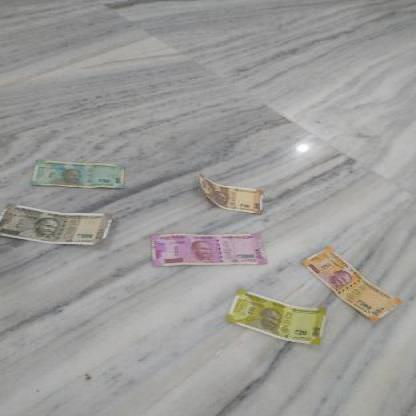New10Front: (200, 179, 267, 214)
New2000Front: (147, 232, 269, 267)
New200Front: (321, 241, 415, 318)
New20Front: (228, 298, 321, 344)
New500Front: (0, 204, 107, 244)
New50Front: (31, 161, 125, 190)
